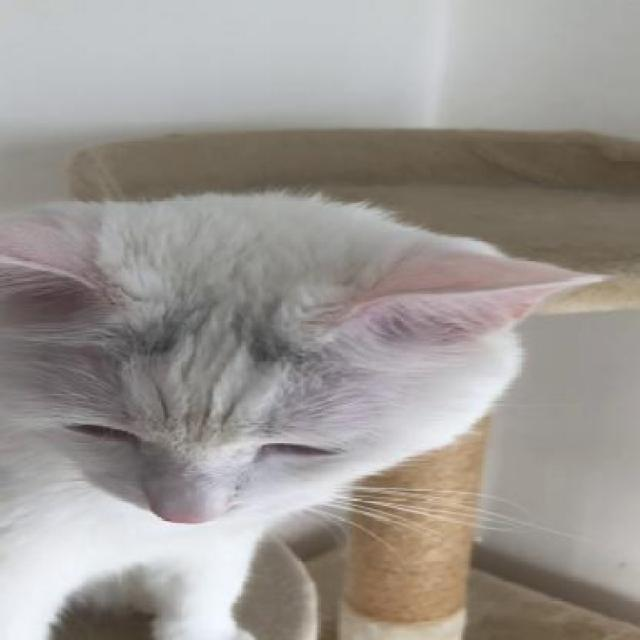cat-face: (4, 202, 616, 526)
